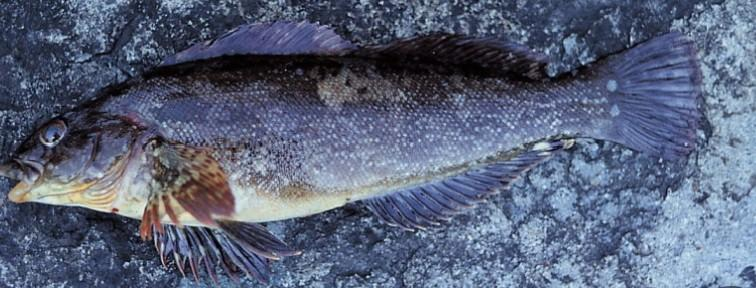fish: (0, 21, 703, 281)
